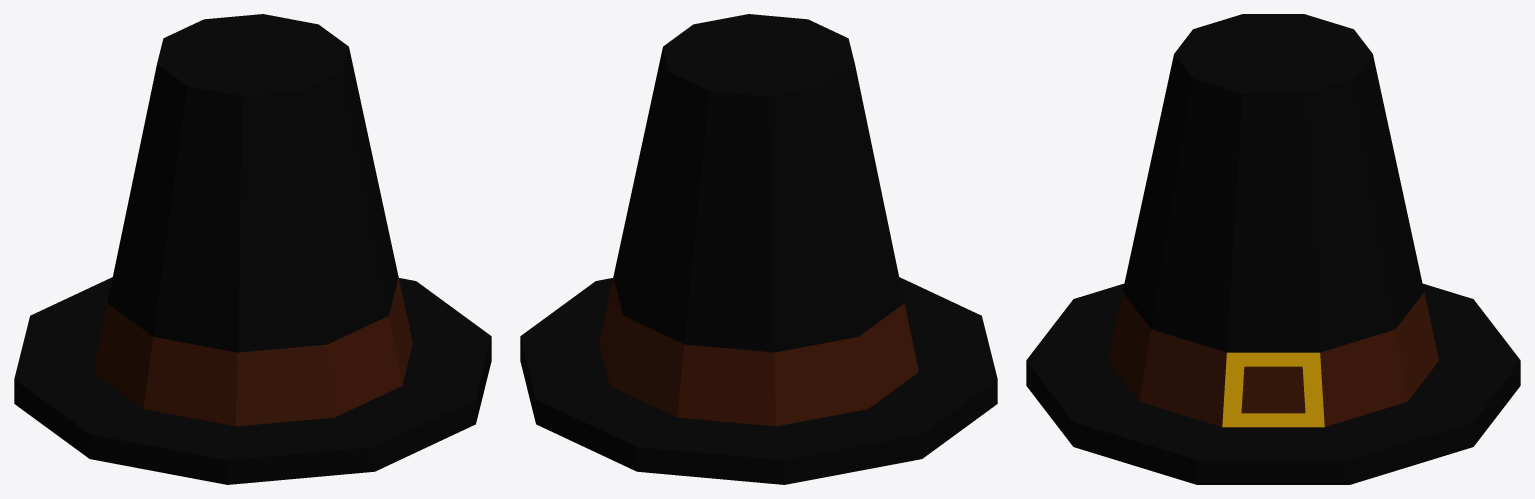
The model's file is Hat_002.fbx.
The picture shows the model from 3 angles, left to right: view 1: azimuth 30°, elevation 25°; view 2: azimuth 150°, elevation 25°; view 3: azimuth 270°, elevation 25°; orthographic projection.
Visible parts, largest first — view 1: Hat; view 2: Hat; view 3: Hat.
Part boxes in pixels (x1,y1,x2,y2): Hat: (14,14,491,484); Hat: (520,14,997,484); Hat: (1026,14,1520,484).
Bounding box in the file's own units: 253 × 197 × 267.
